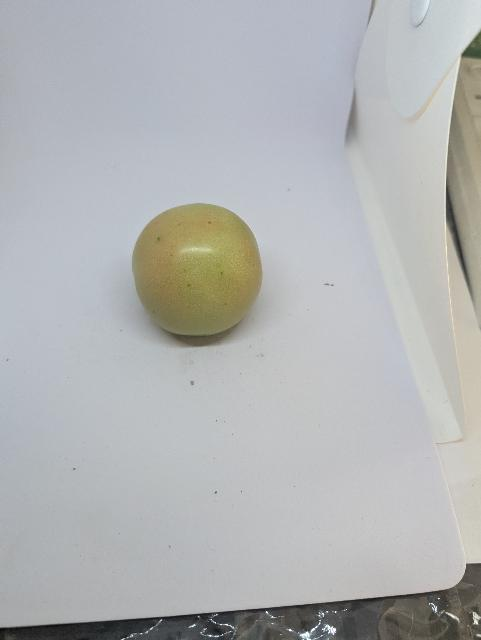breaker: (130, 200, 265, 339)
